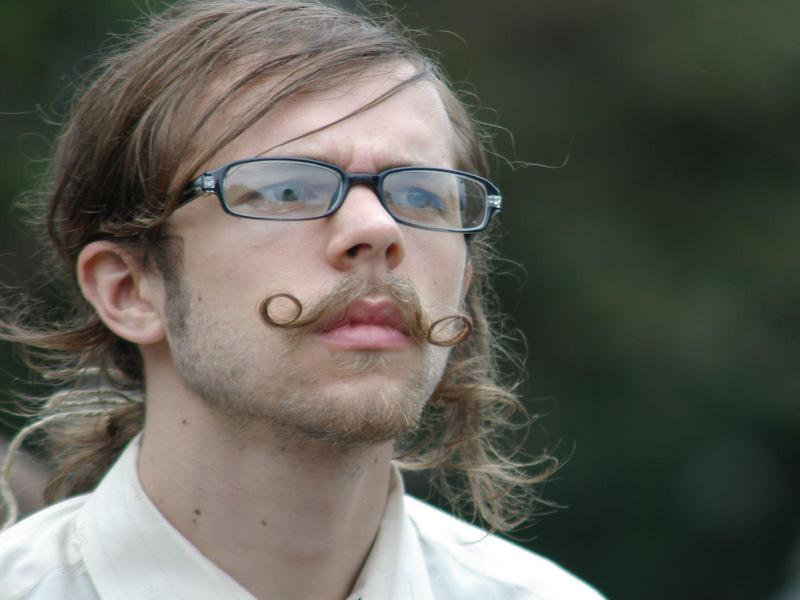person: (1, 2, 610, 597)
